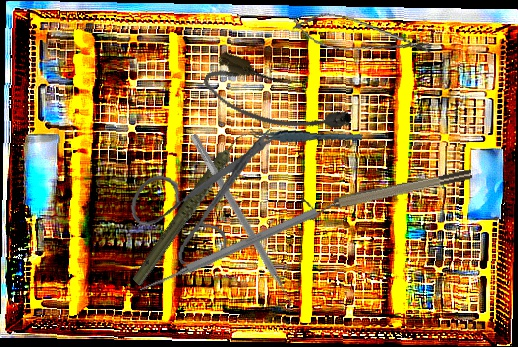Cannula: (197, 47, 358, 155)
Fixation Ring: (300, 166, 475, 222)
Handpiece: (105, 129, 278, 288)
Iris Scissors: (123, 110, 282, 275)
Micro Scissor: (287, 7, 438, 65)
Pusher: (137, 205, 320, 296)
Spatula Surgical: (181, 133, 302, 316)
Tissue Forceps: (249, 118, 363, 154)
